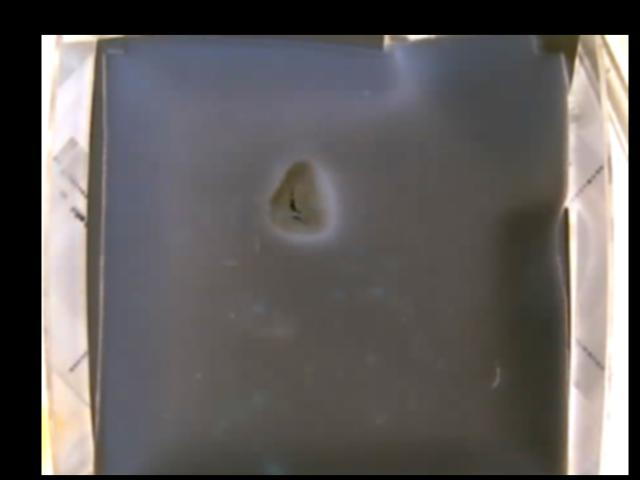Pebble: (267, 158, 330, 241)
